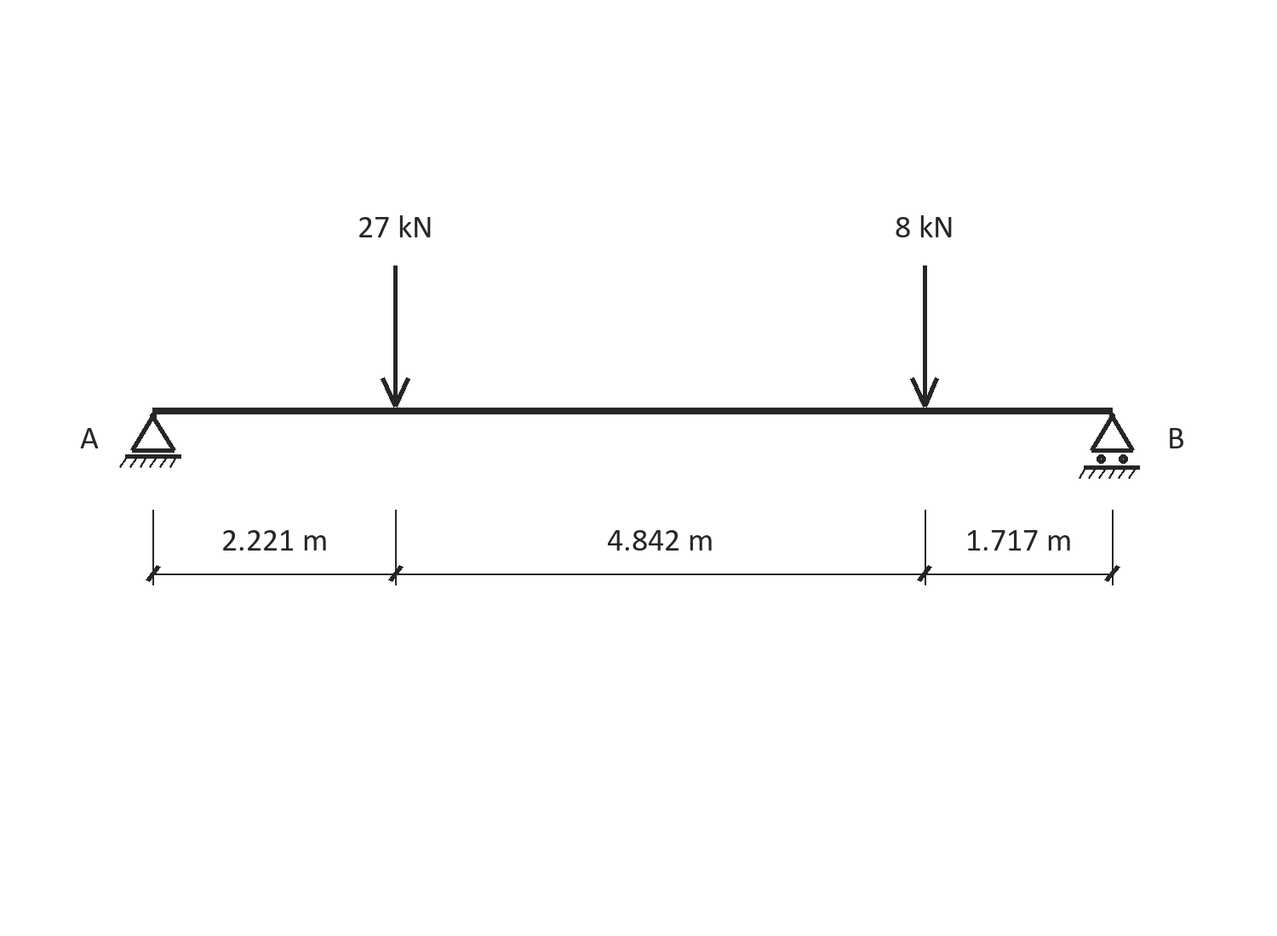pin_support: (119, 413, 181, 468)
point_load: (381, 265, 410, 408), (910, 265, 939, 408)
roller_support: (1079, 413, 1140, 479)
